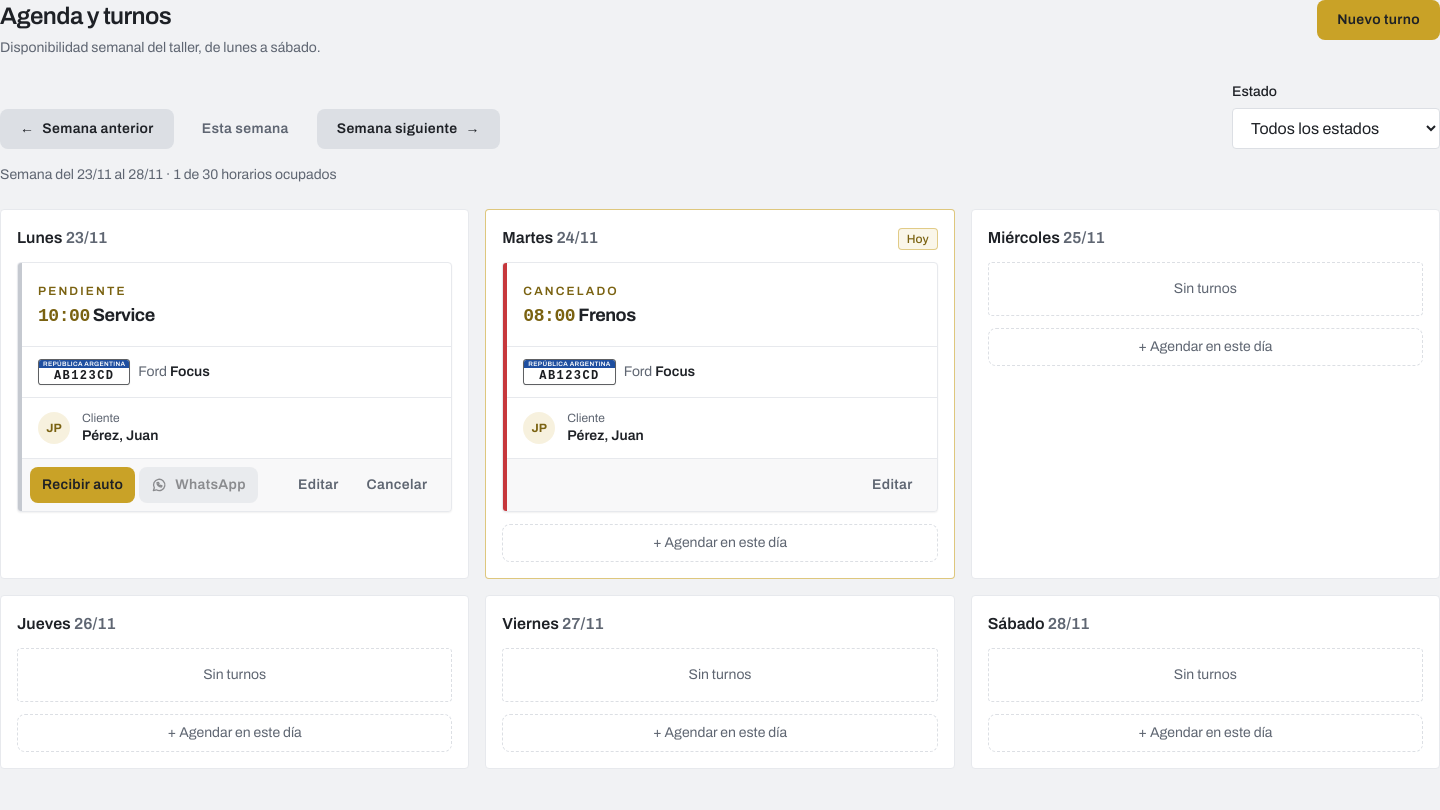
Test: Turnos › con turnos en la semana › Nuevo turno abre el formulario vacío
This screenshot has width=1440, height=810.
Expected: the text "Service" is shown, [93,305,155,325]
What coordinates should you click on to do the following:
click the button "Nuevo turno"
I would click on:
 (1379, 20)
Its box is [1317,0,1439,40].
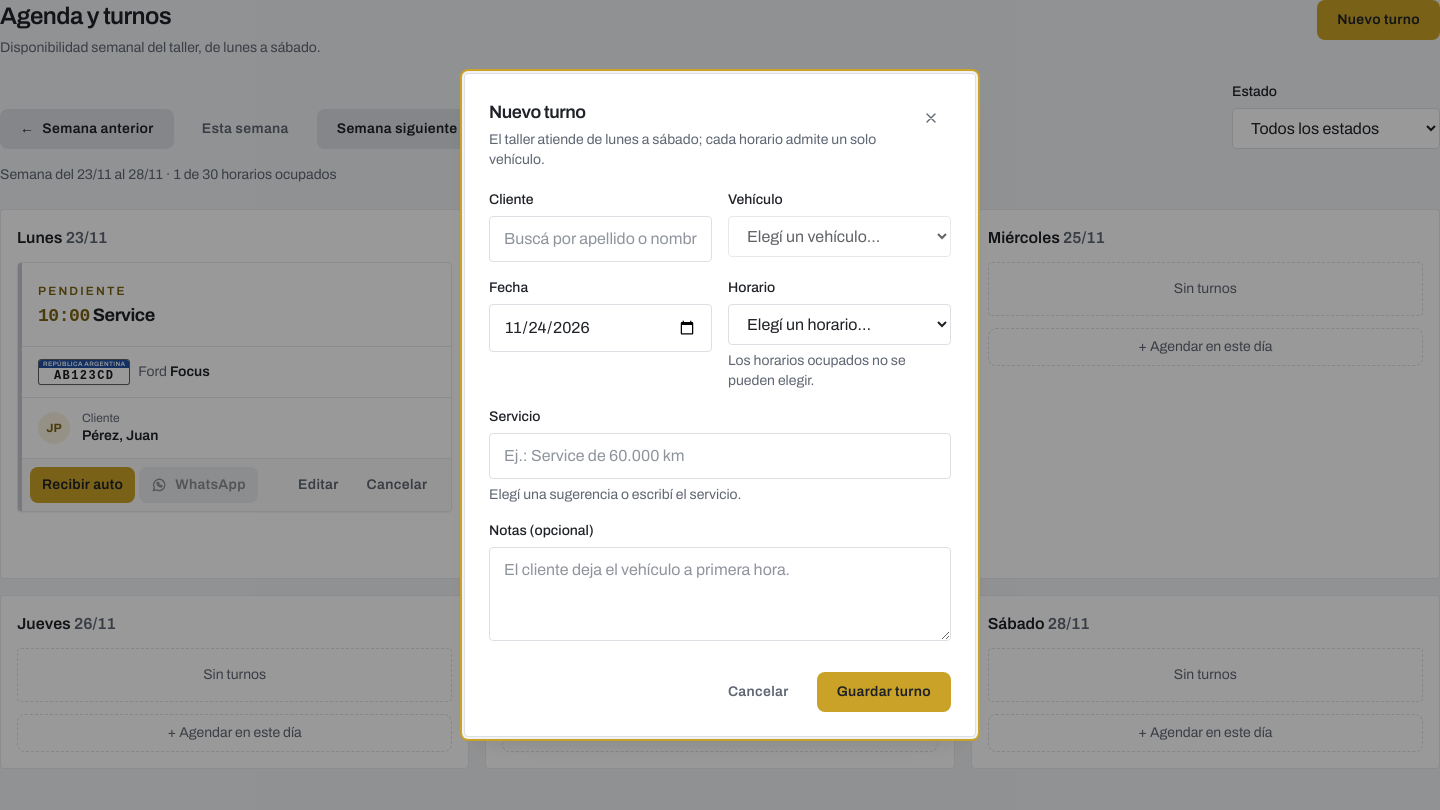
Expected: the heading "Nuevo turno" is shown, [489,102,586,122]
